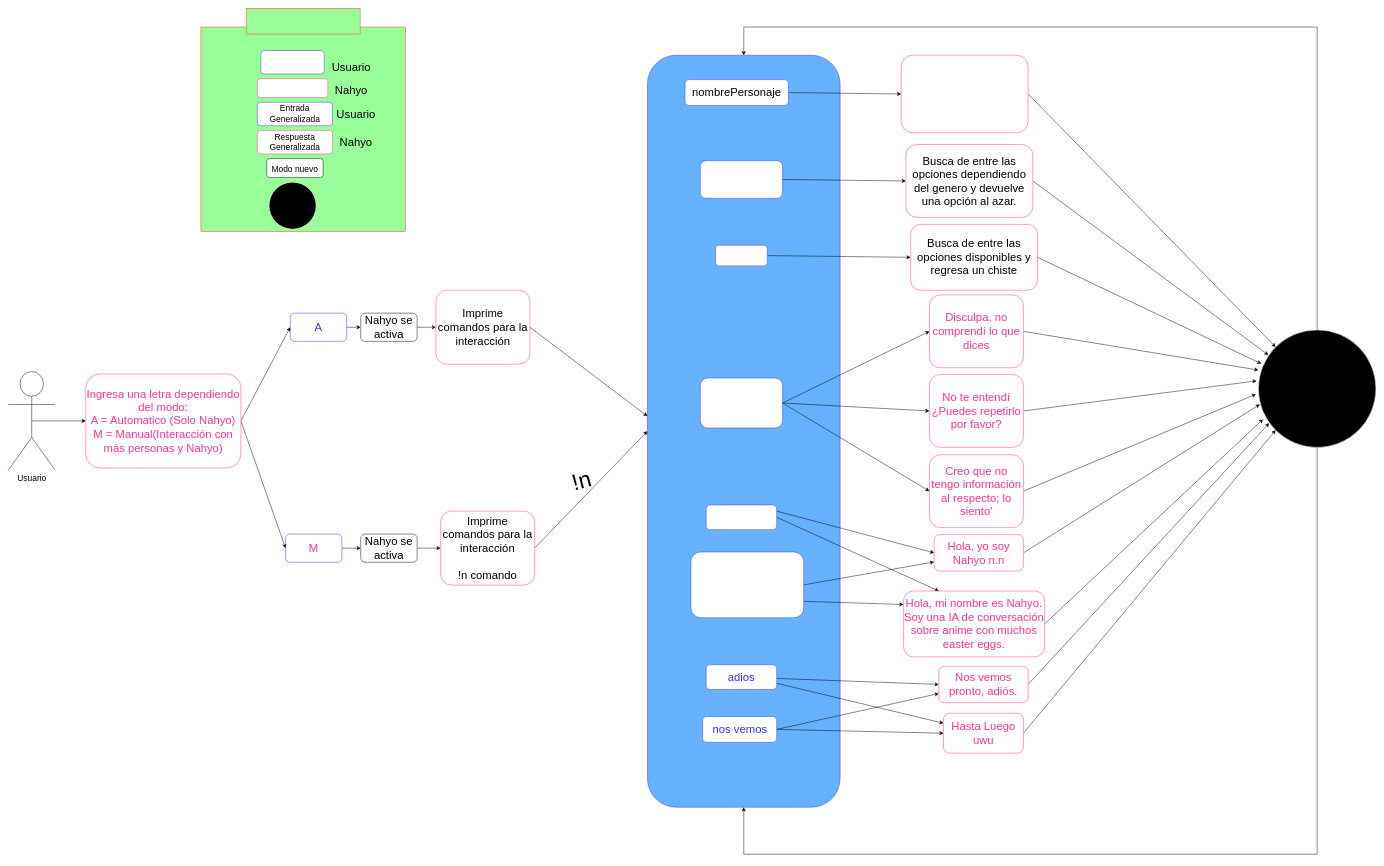
Image size: 1384x866. Some labels were removed from this diagram. The shapes that lost their labels are listed below. From the top down, each one's centre as x and y in pixels, then its label:
At (303,21): "SIMBOLOGIA".
At (292,62): "EntradaTextual".
At (292,88): "RespuestaTextual".
At (964,94): "Busca en sus conocimientos y manda la descripción correspondiente al personaje .".
At (741,179): "recomiendame genero".
At (292,205): "Punto de retorno".
At (741,255): "chiste".
At (741,403): "Algo desconocido para Nahyo".
At (1317,388): "Ingresa un nuevo comando".
At (741,517): "Hola".
At (747,584): "buen(a|o)s (dias|tardes|noches)".
